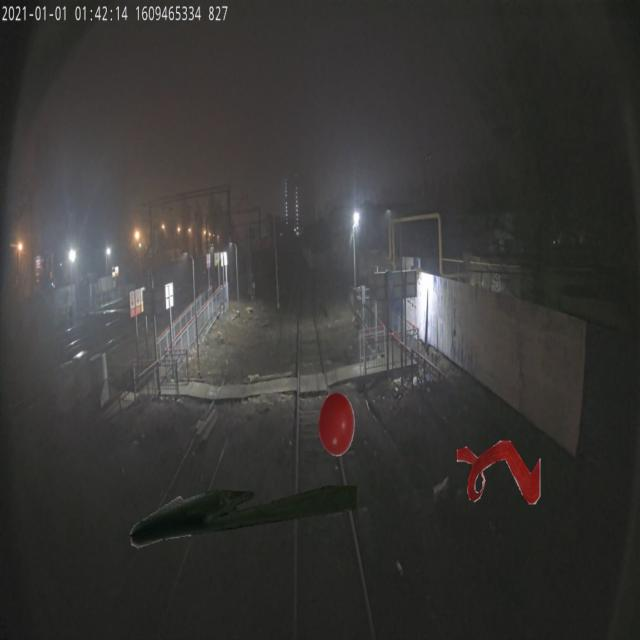balloon: (318, 392, 355, 457)
floating object: (130, 486, 357, 550), (457, 440, 541, 504)
